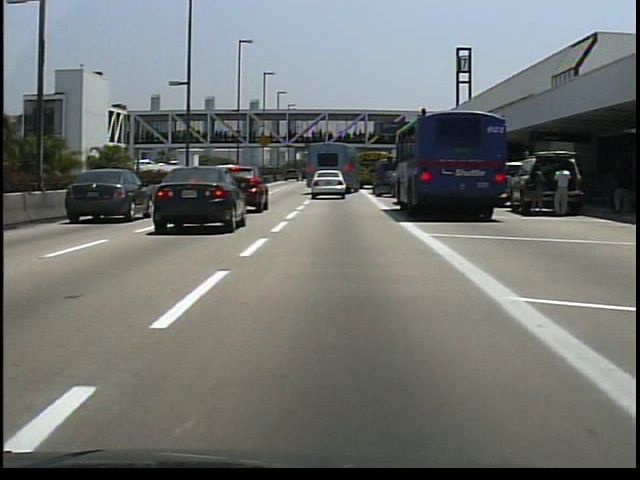person: (523, 162, 548, 222), (548, 161, 573, 220), (609, 156, 630, 215)
